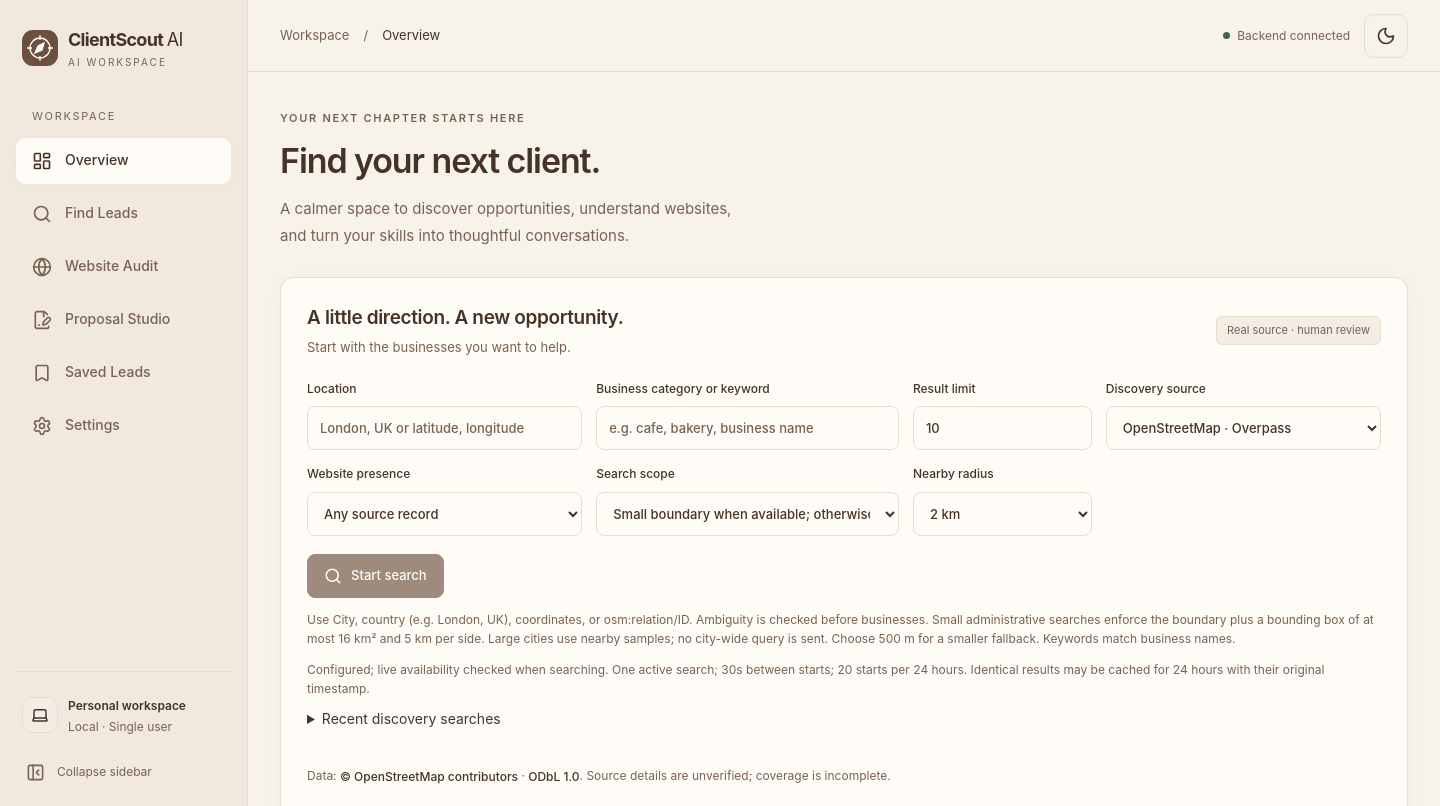
workspace foundation › navigates all screens and keeps an active accessible route
Click the link "Find Leads": click(85, 214) left=32, top=204, right=138, bottom=224
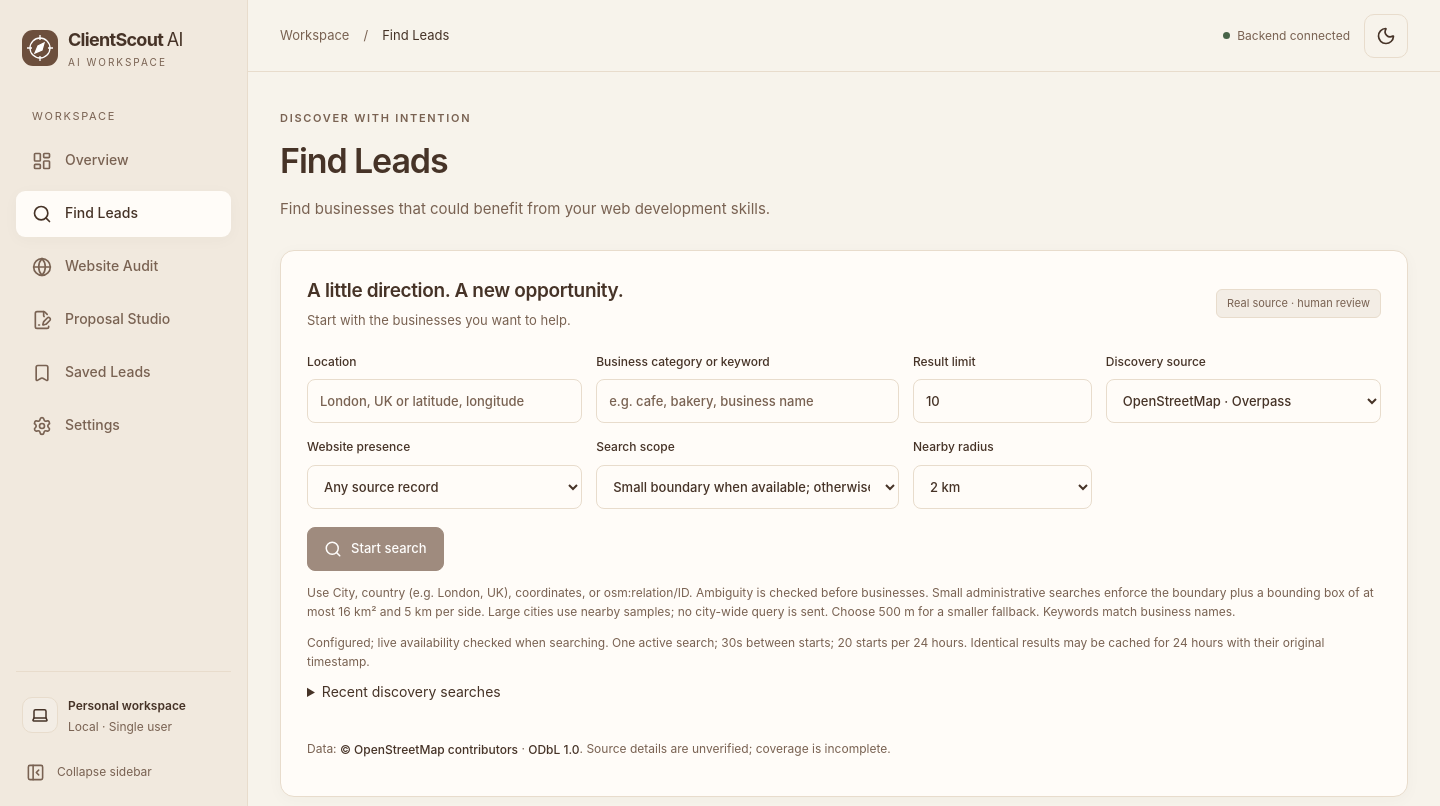
Check: the heading "Find Leads" is shown, box left=280, top=140, right=448, bottom=181
Click the link "Website Audit": click(95, 267) left=32, top=257, right=158, bottom=277
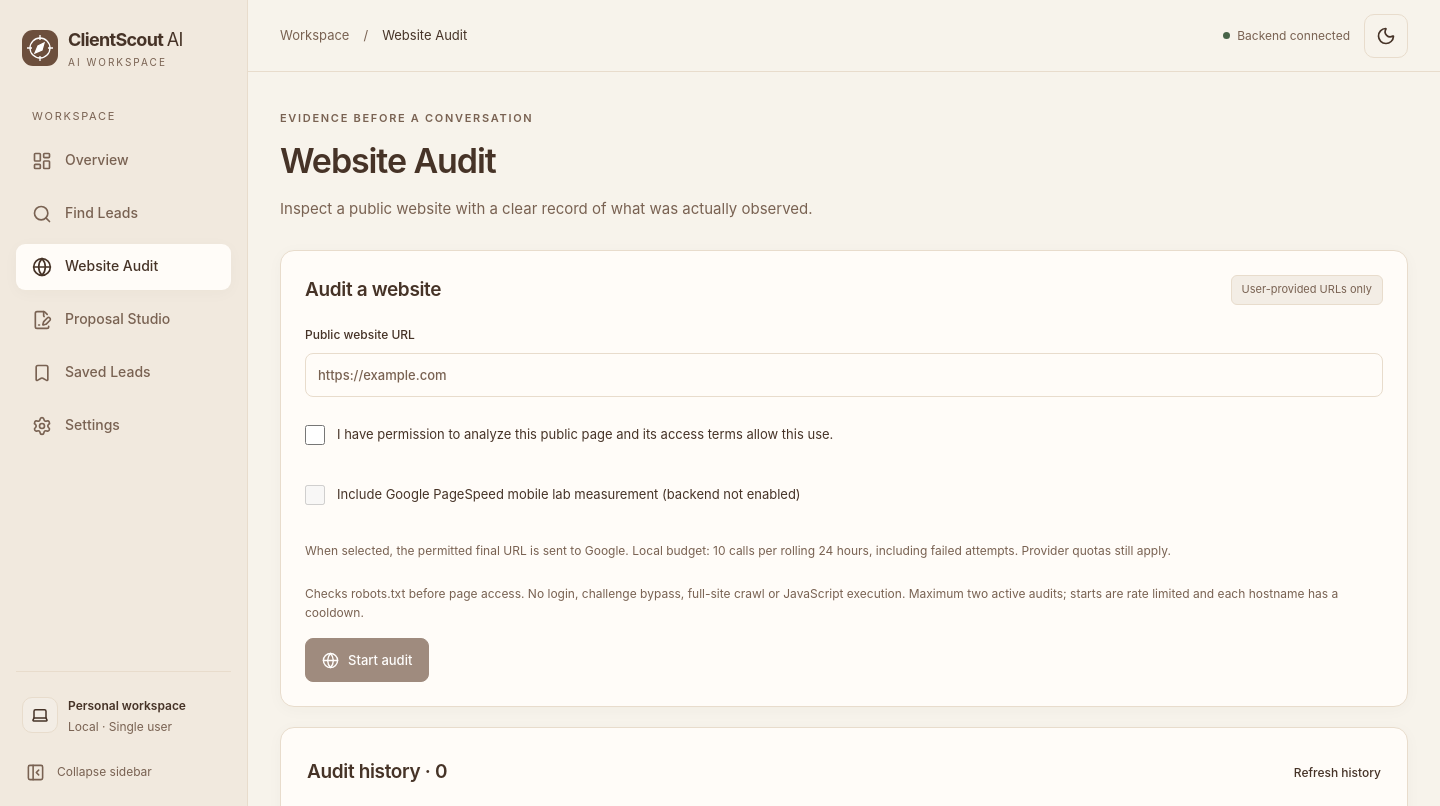
Check: the heading "Website Audit" is shown, box left=280, top=140, right=496, bottom=181
Click the link "Proposal Studio": click(101, 320) left=32, top=310, right=170, bottom=330
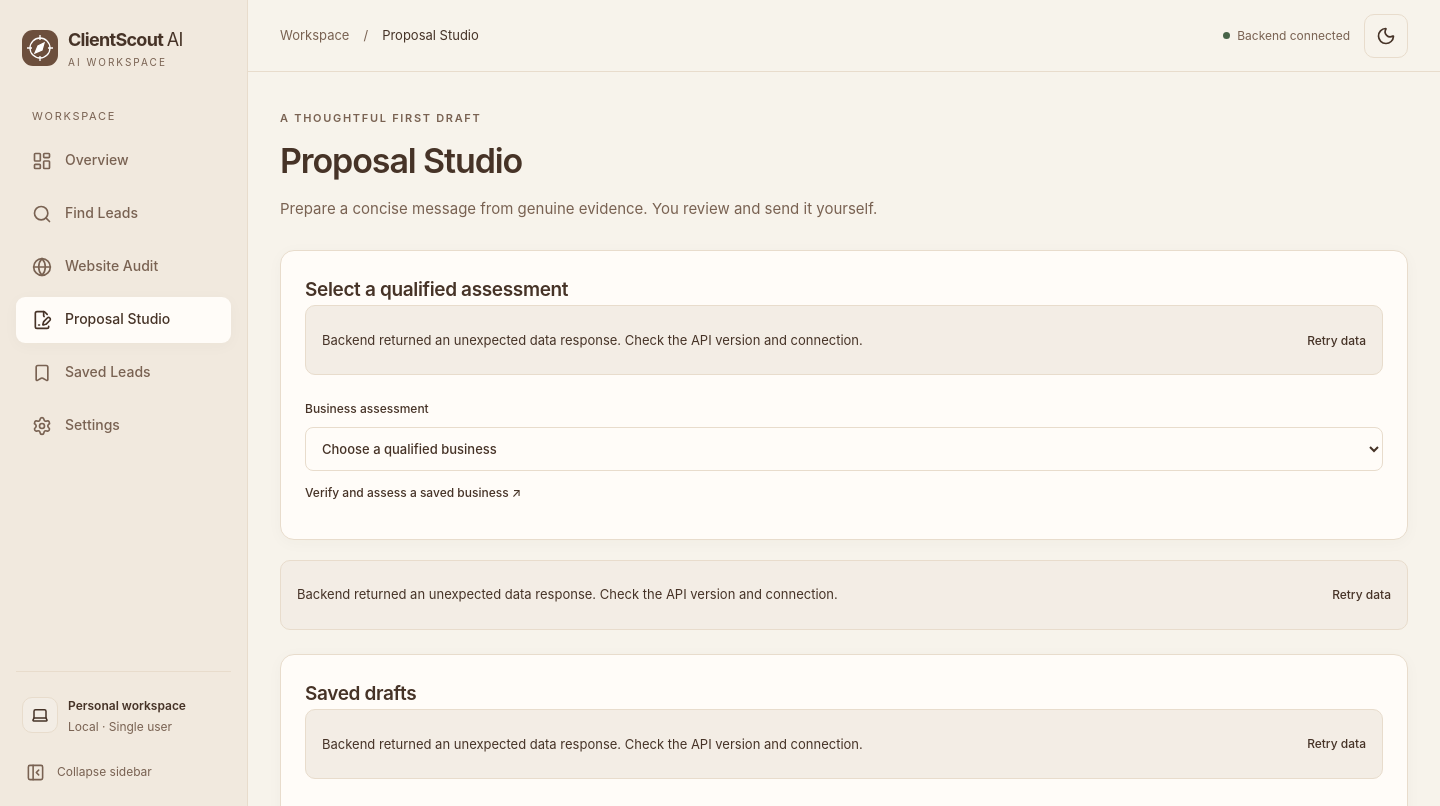
Check: the heading "Proposal Studio" is shown, box left=280, top=140, right=522, bottom=181
Click the link "Saved Leads": click(91, 373) left=32, top=363, right=151, bottom=383
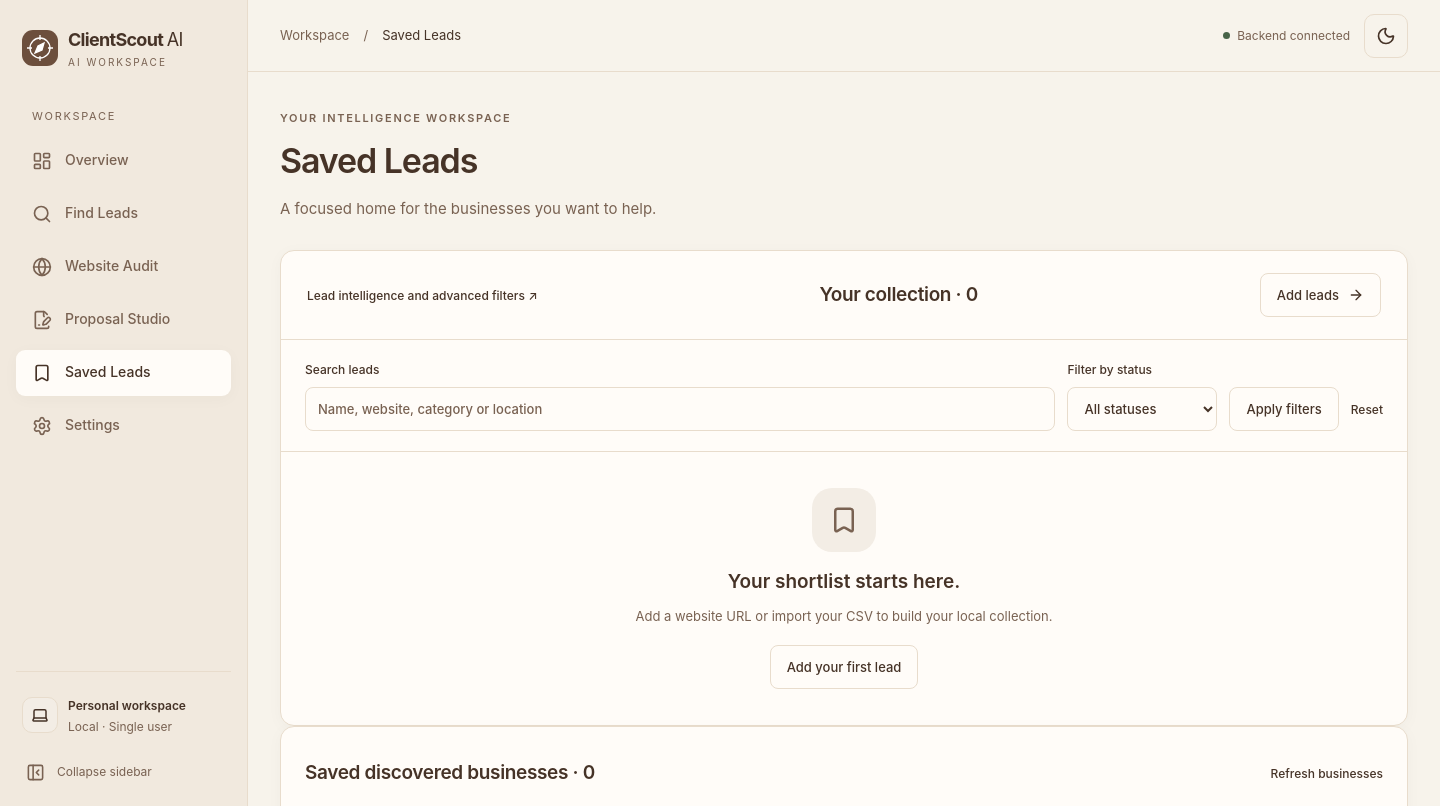
Check: the heading "Saved Leads" is shown, box left=280, top=140, right=477, bottom=181
Click the link "Settings": click(76, 426) left=32, top=416, right=120, bottom=436
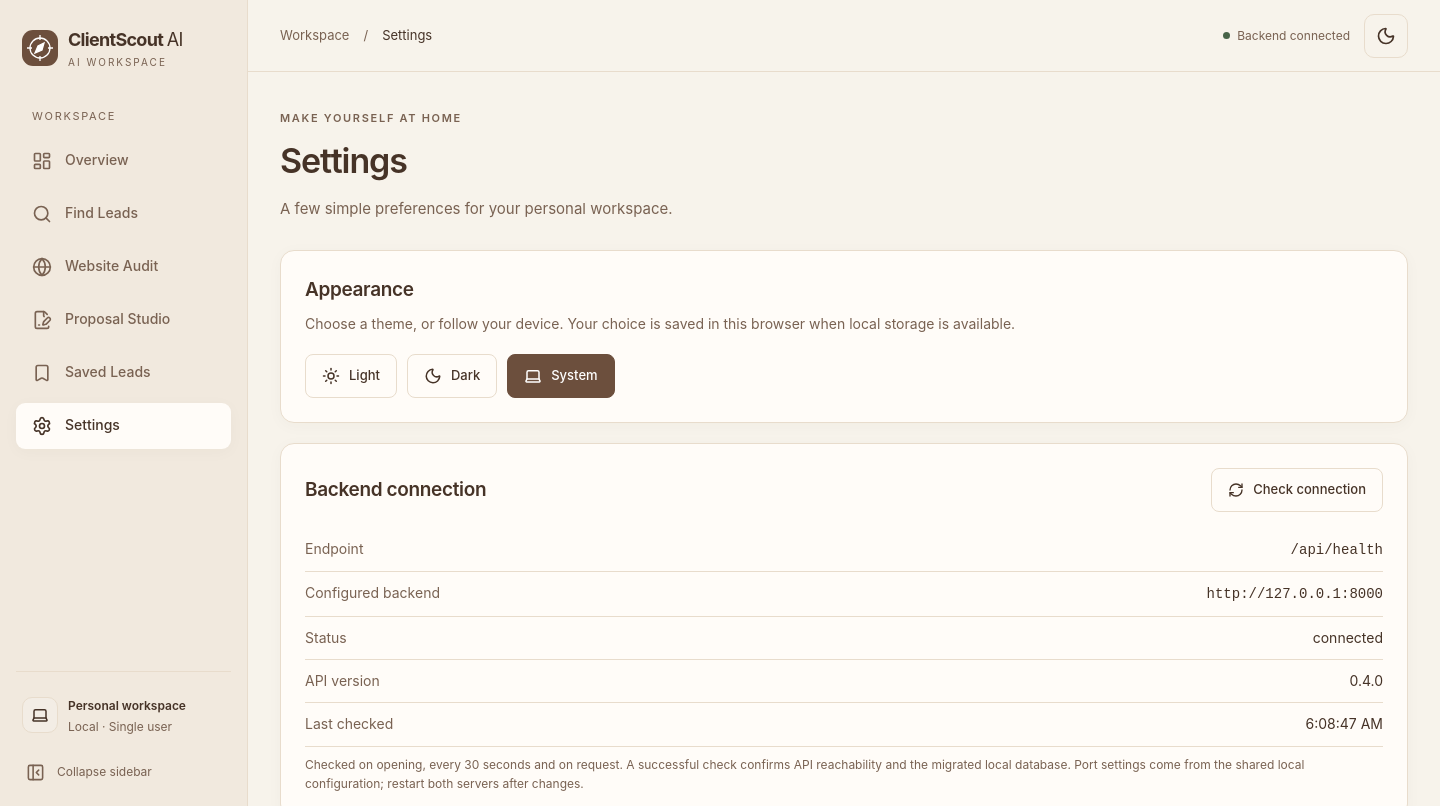
Check: the heading "Settings" is shown, box left=280, top=140, right=407, bottom=181
Click the link "Overview": click(80, 161) left=32, top=151, right=128, bottom=171
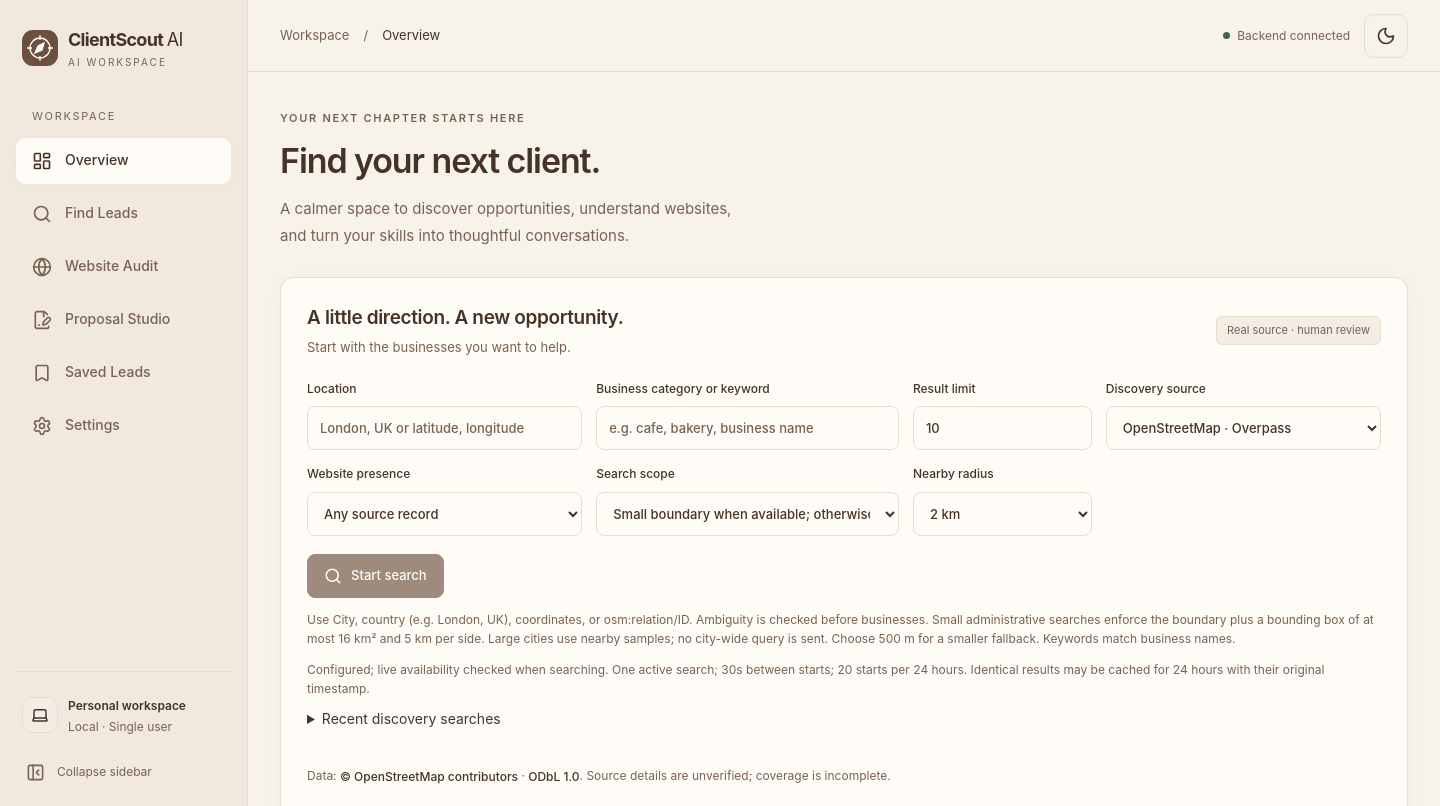
Check: the heading "Find your next client." is shown, box left=280, top=140, right=600, bottom=181
